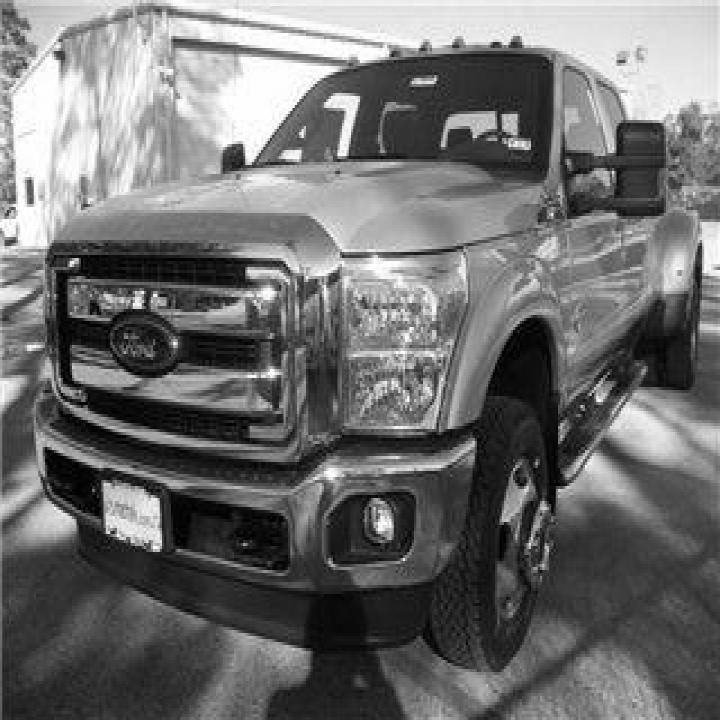car: (32, 33, 702, 672)
